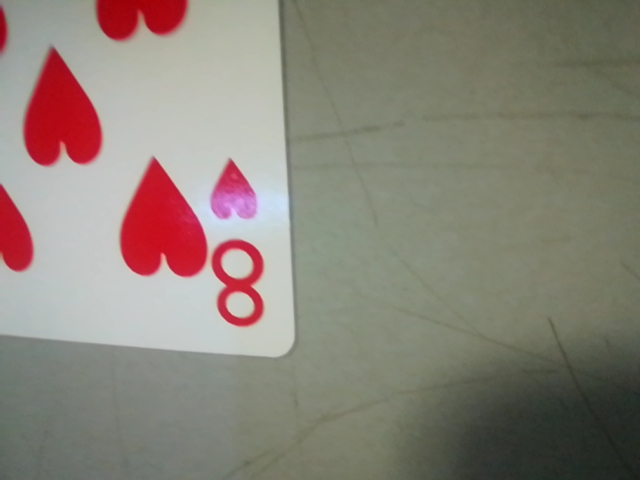hx 8: (200, 148, 284, 338)
